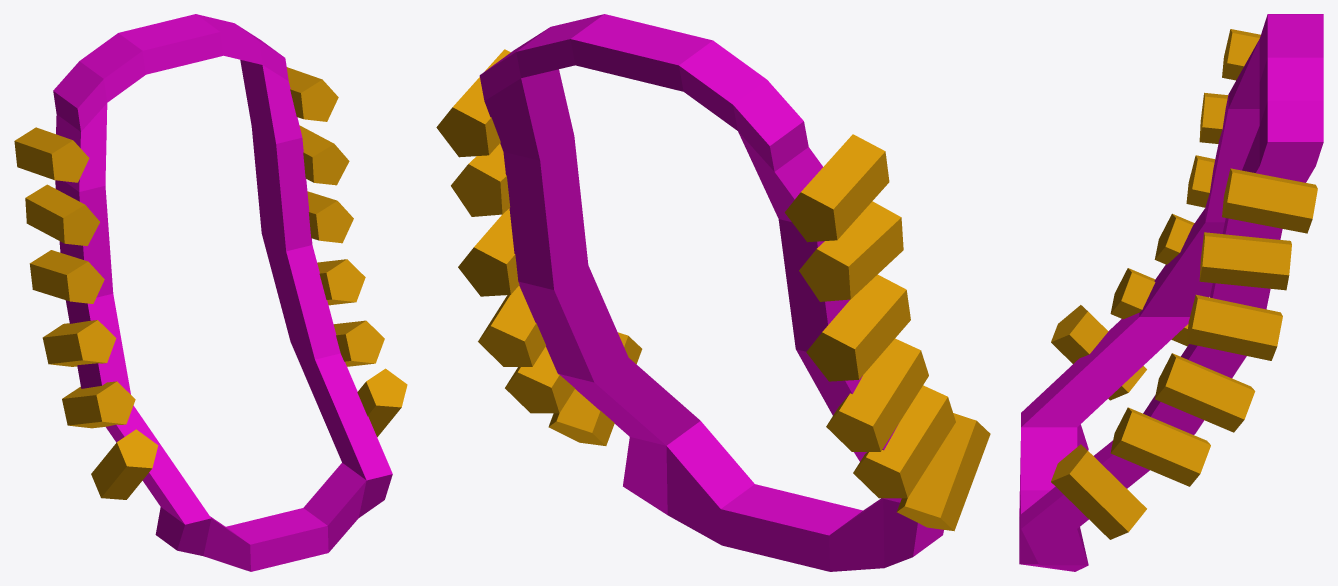
Rendered from bandolier.fbx.
The picture shows the model from 3 angles, left to right: view 1: azimuth 30°, elevation 25°; view 2: azimuth 150°, elevation 25°; view 3: azimuth 270°, elevation 25°; orthographic projection. The views are drawn at different scales.
Visible parts, largest first — view 1: Bandolier; view 2: Bandolier; view 3: Bandolier.
Boxes of the visible parts, box(x1,y1,x2,y2) form: Bandolier: box(14, 14, 407, 571); Bandolier: box(436, 14, 990, 571); Bandolier: box(1019, 14, 1323, 571).
Bounding box in the file's own units: 0.5091 × 0.7525 × 0.41.
